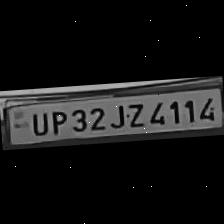1: (164, 96, 184, 123), (177, 96, 195, 122)
2: (84, 101, 107, 129)
3: (66, 102, 86, 130)
4: (194, 92, 218, 119), (144, 97, 166, 125)
J: (106, 100, 127, 128)
P: (46, 106, 68, 134)
U: (25, 108, 48, 136)
Z: (122, 98, 146, 127)
